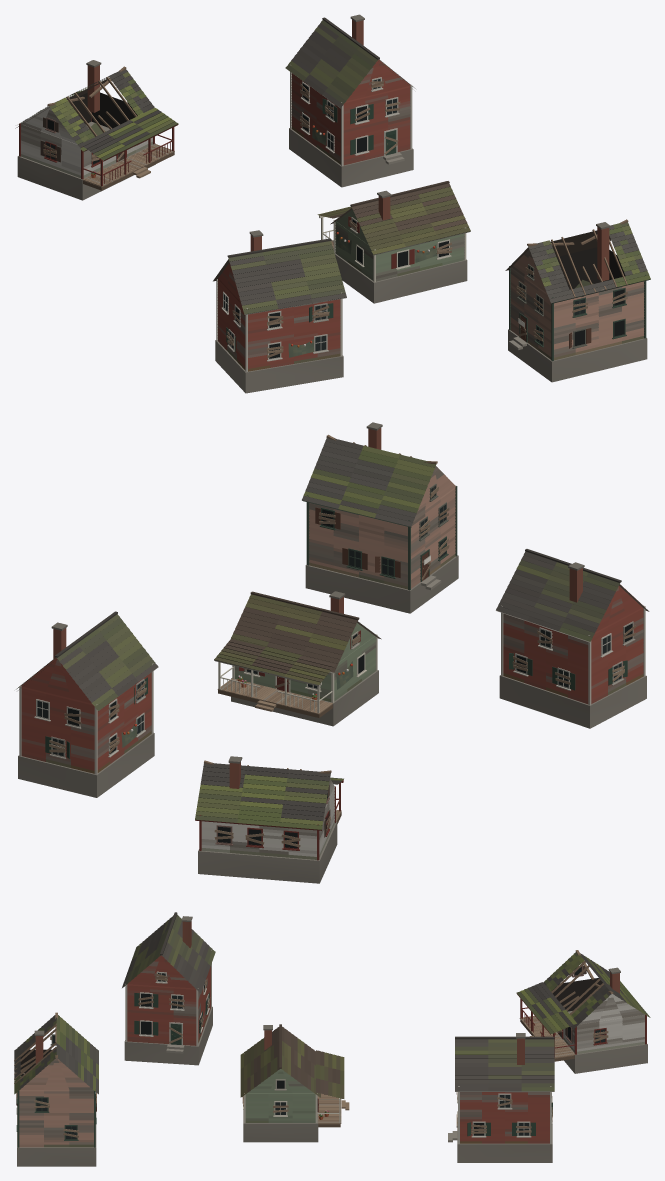
The model's file is houses.glb.
The picture shows the model from 3 angles, top to bottom: view 1: azimuth 30°, elevation 25°; view 2: azimuth 150°, elevation 25°; view 3: azimuth 270°, elevation 25°; orthographic projection. The views are drawn at different scales.
Visible parts, largest first — view 1: house_c, house_a_2, house_a, house_d, house_b; view 2: house_c, house_a_2, house_a, house_b, house_d; view 3: house_a, house_a_2, house_c, house_d, house_b.
Boxes of the visible parts, x1=… form: house_c: x1=505, y1=219, x2=650, y2=382; house_a_2: x1=213, y1=230, x2=346, y2=393; house_a: x1=285, y1=14, x2=415, y2=187; house_d: x1=15, y1=60, x2=178, y2=200; house_b: x1=317, y1=181, x2=470, y2=303; house_c: x1=302, y1=422, x2=458, y2=613; house_a_2: x1=496, y1=549, x2=649, y2=728; house_a: x1=16, y1=611, x2=158, y2=797; house_b: x1=214, y1=591, x2=381, y2=726; house_d: x1=195, y1=756, x2=343, y2=883; house_a: x1=448, y1=1033, x2=554, y2=1162; house_a_2: x1=122, y1=912, x2=215, y2=1065; house_c: x1=14, y1=1012, x2=98, y2=1166; house_d: x1=516, y1=950, x2=650, y2=1073; house_b: x1=240, y1=1024, x2=349, y2=1142.
Bounding box in the file's own units: 32.51 × 12.66 × 56.84.
